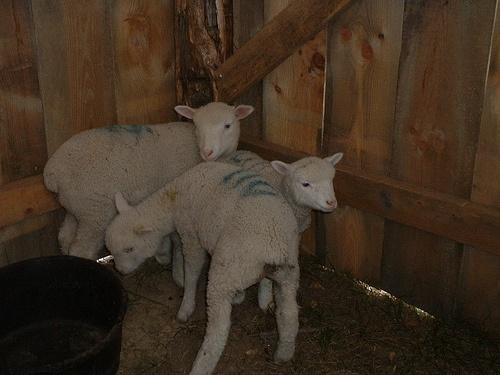sheep: (104, 157, 302, 372), (38, 100, 255, 267), (239, 148, 350, 225)
